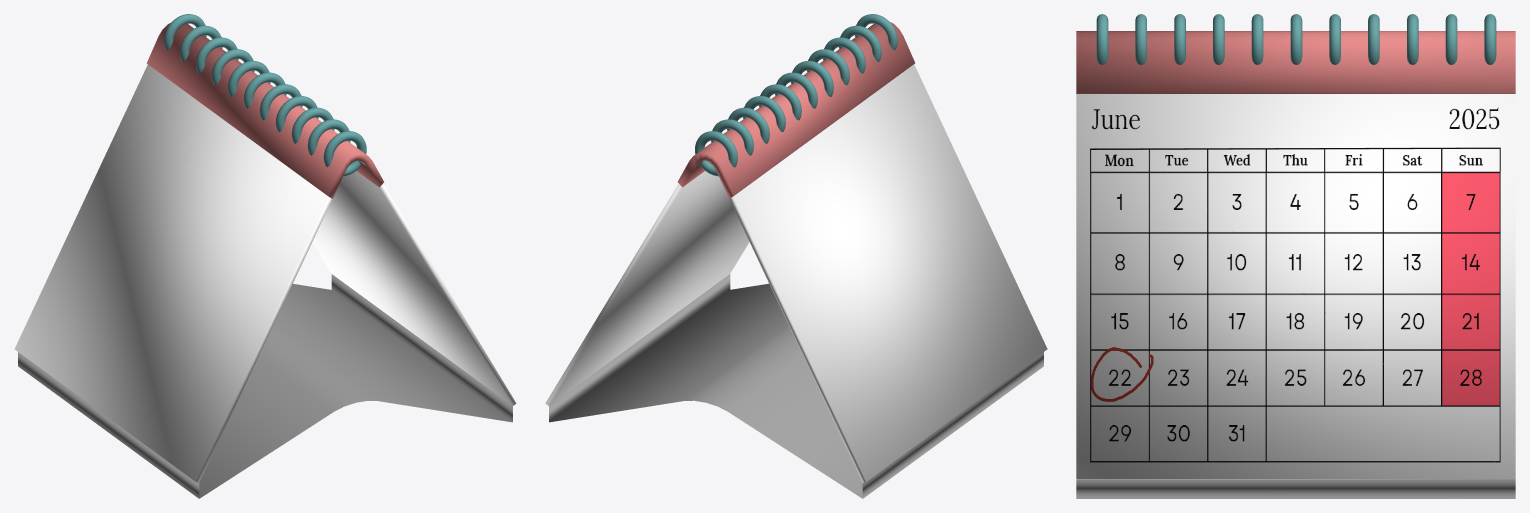
The model's file is calendar.fbx.
3 views of the same model, side by side, from view 1: azimuth 30°, elevation 25°; view 2: azimuth 150°, elevation 25°; view 3: azimuth 270°, elevation 25° (orthographic). The views are drawn at different scales.
Visible parts, largest first — view 1: Cube.002; view 2: Cube.002; view 3: Cube.002.
Part boxes in pixels (box(x1,y1,x2,y2)): Cube.002: box(14, 14, 516, 498); Cube.002: box(545, 14, 1047, 498); Cube.002: box(1076, 14, 1515, 498).
Size of the model in its own units: 20.44 by 19.53 by 19.97.
